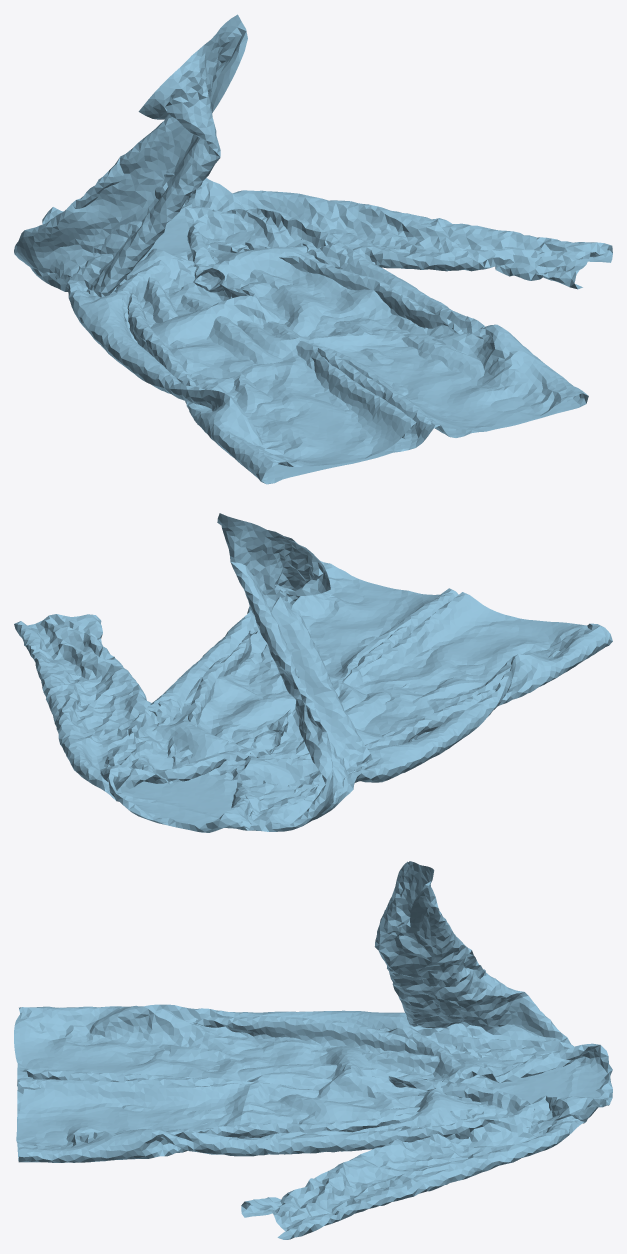
File: frame_15.glb
3 renders of one model, top to bottom at view 1: azimuth 30°, elevation 25°; view 2: azimuth 150°, elevation 25°; view 3: azimuth 270°, elevation 25°, orthographic. The views are drawn at different scales.
Visible parts, largest first — view 1: frame_15.obj; view 2: frame_15.obj; view 3: frame_15.obj.
Part boxes in pixels (bbox=[...]): frame_15.obj: bbox=[14, 14, 612, 484]; frame_15.obj: bbox=[14, 513, 612, 832]; frame_15.obj: bbox=[14, 861, 612, 1239].
Size of the model in its own units: 1.49 by 0.7423 by 1.68.
